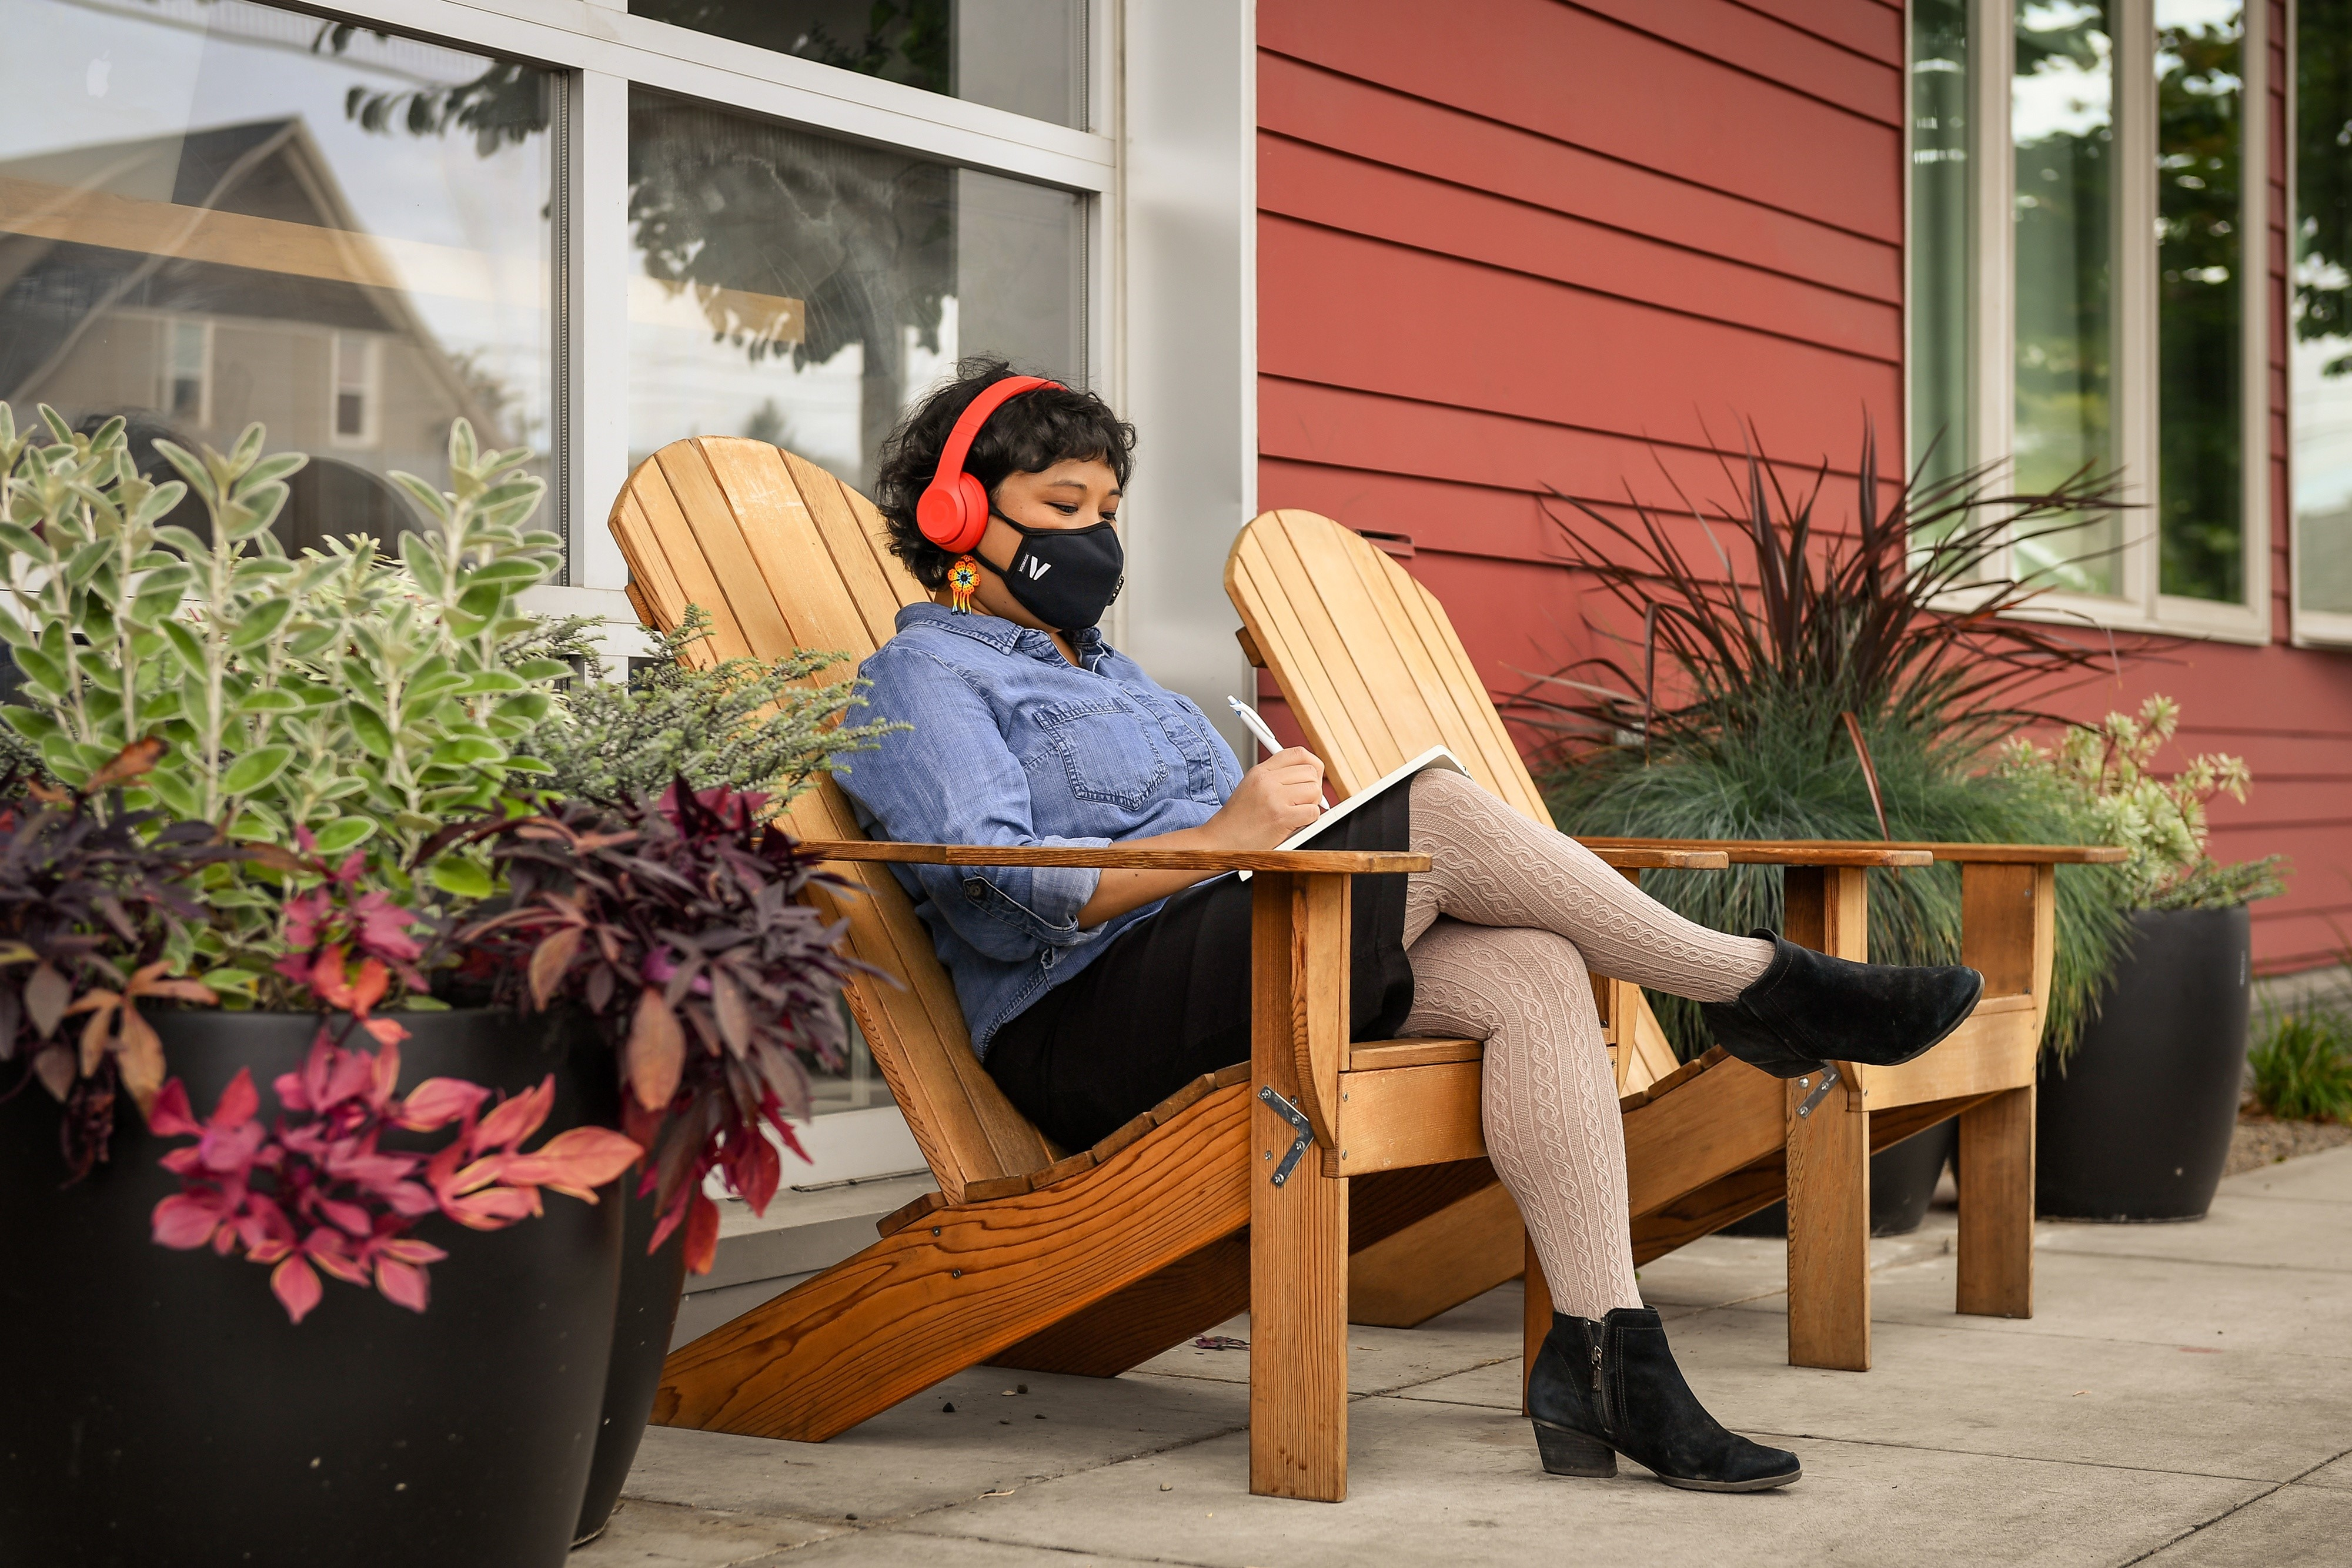face_with_mask: (884, 376, 1131, 631)
